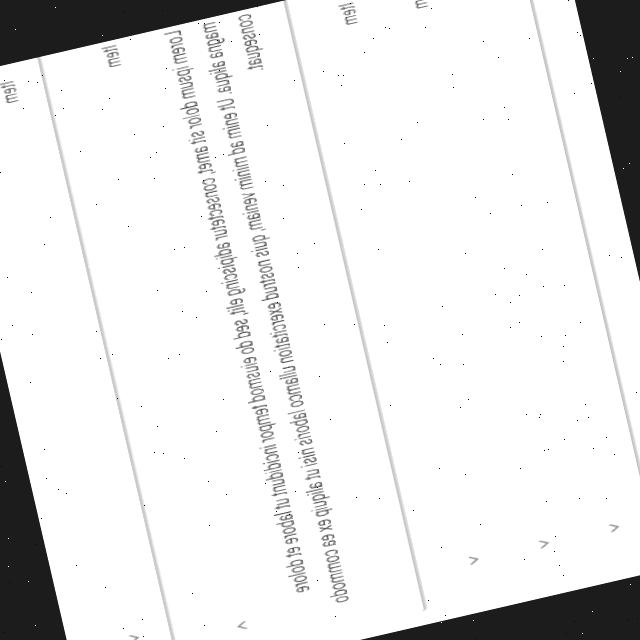VExpansionPanels: (57, 0, 428, 640), (302, 0, 640, 596), (0, 56, 180, 640)
